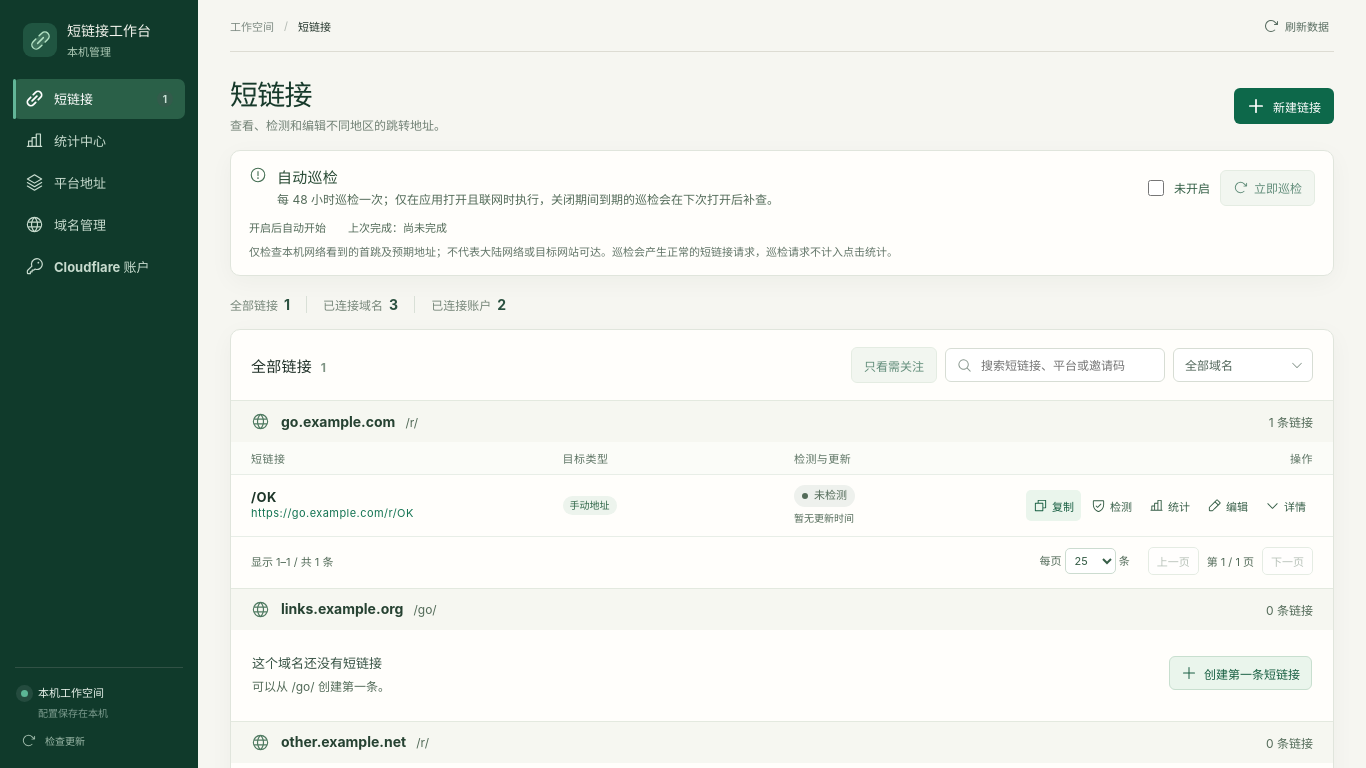
Test case: new names are lowercase in the form, payload and review; targets retain case
Click the button with aria-label "编辑 OK" at (1228, 506), box [1200,490,1255,521]
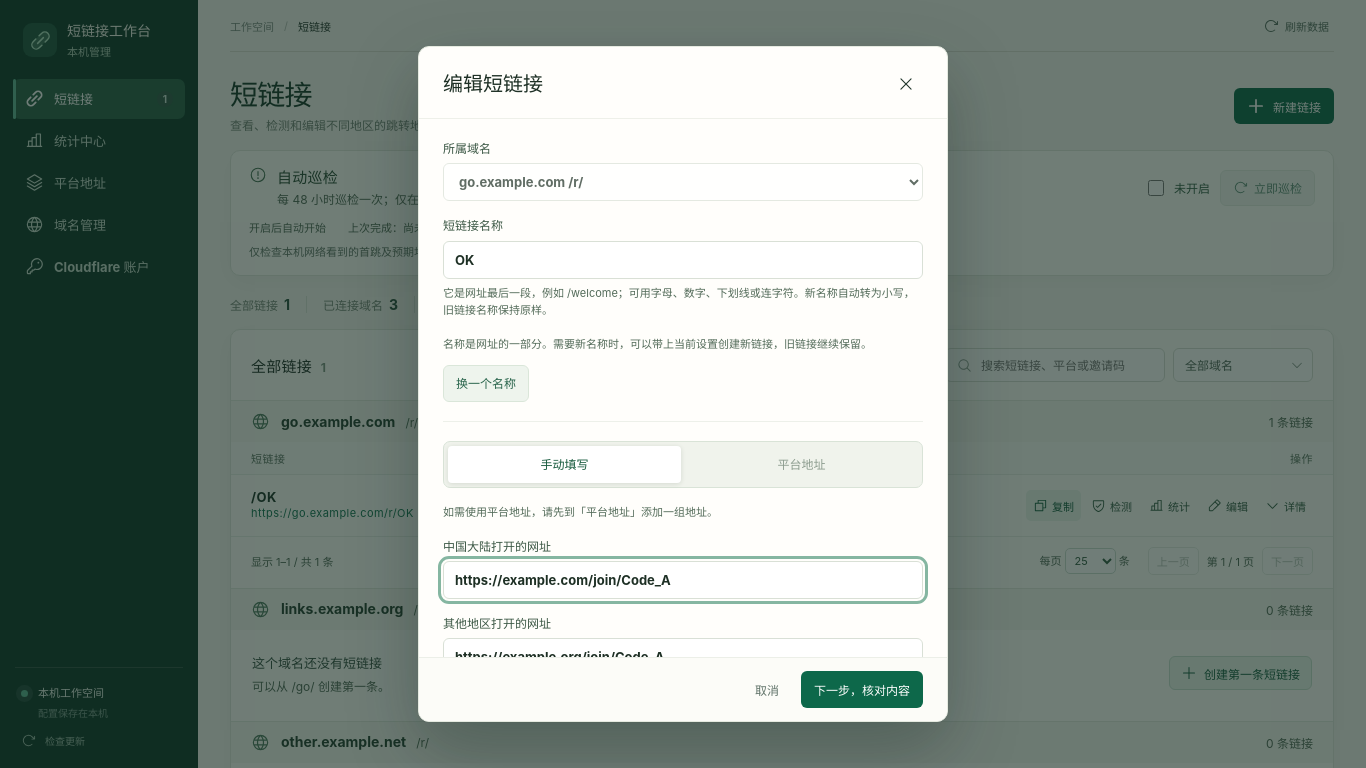
Click the button "换一个名称" at (486, 383), box [443,365,529,402]
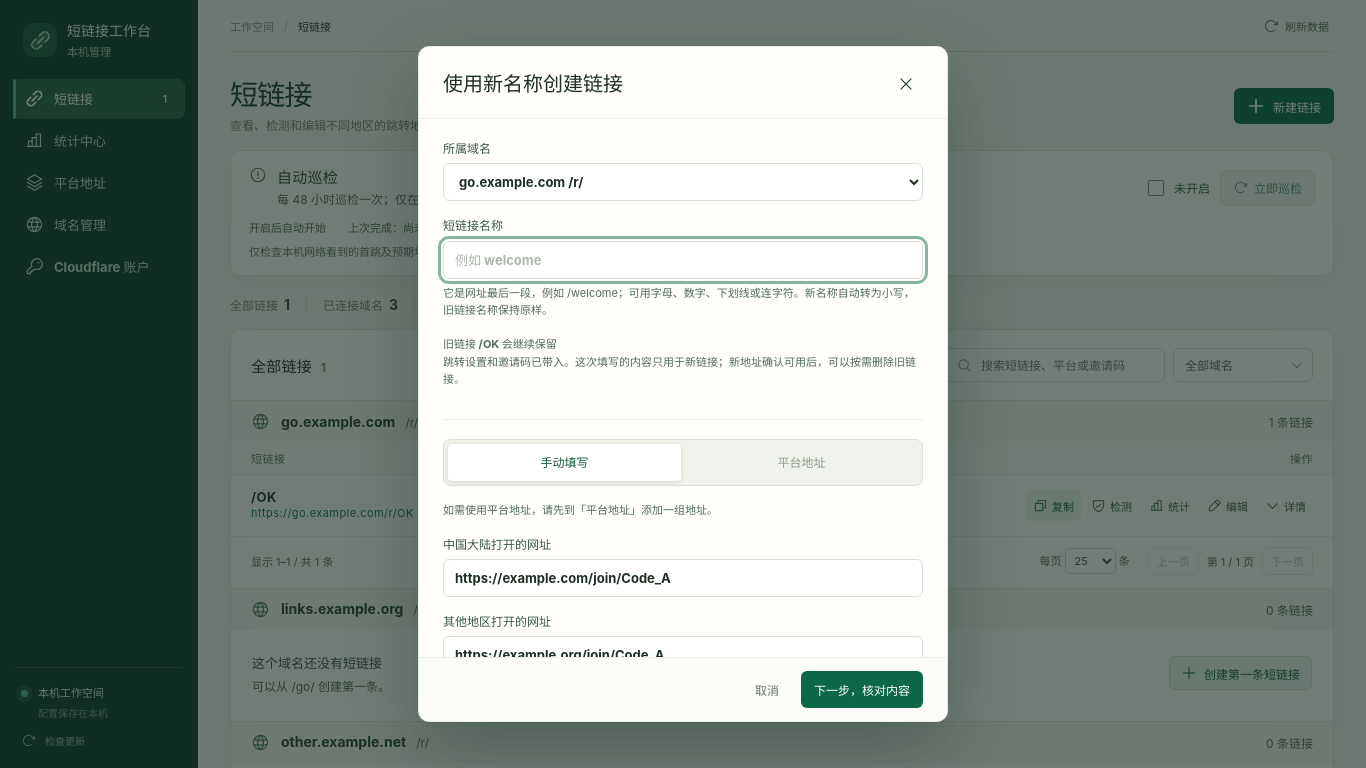
Type "NeW_Name" into the field with placeholder "例如 welcome" at (683, 260), box [443,241,923,279]
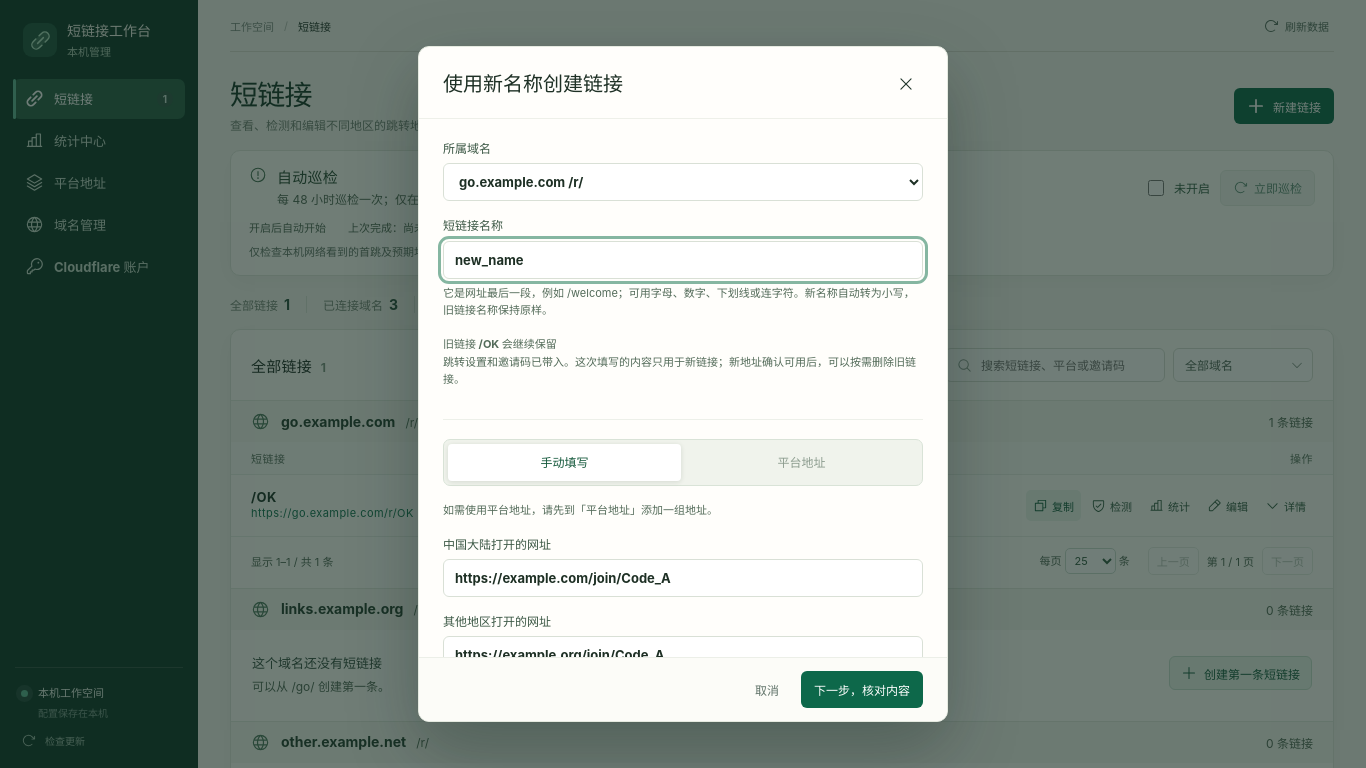
Submit the form, box [443,140,923,708]
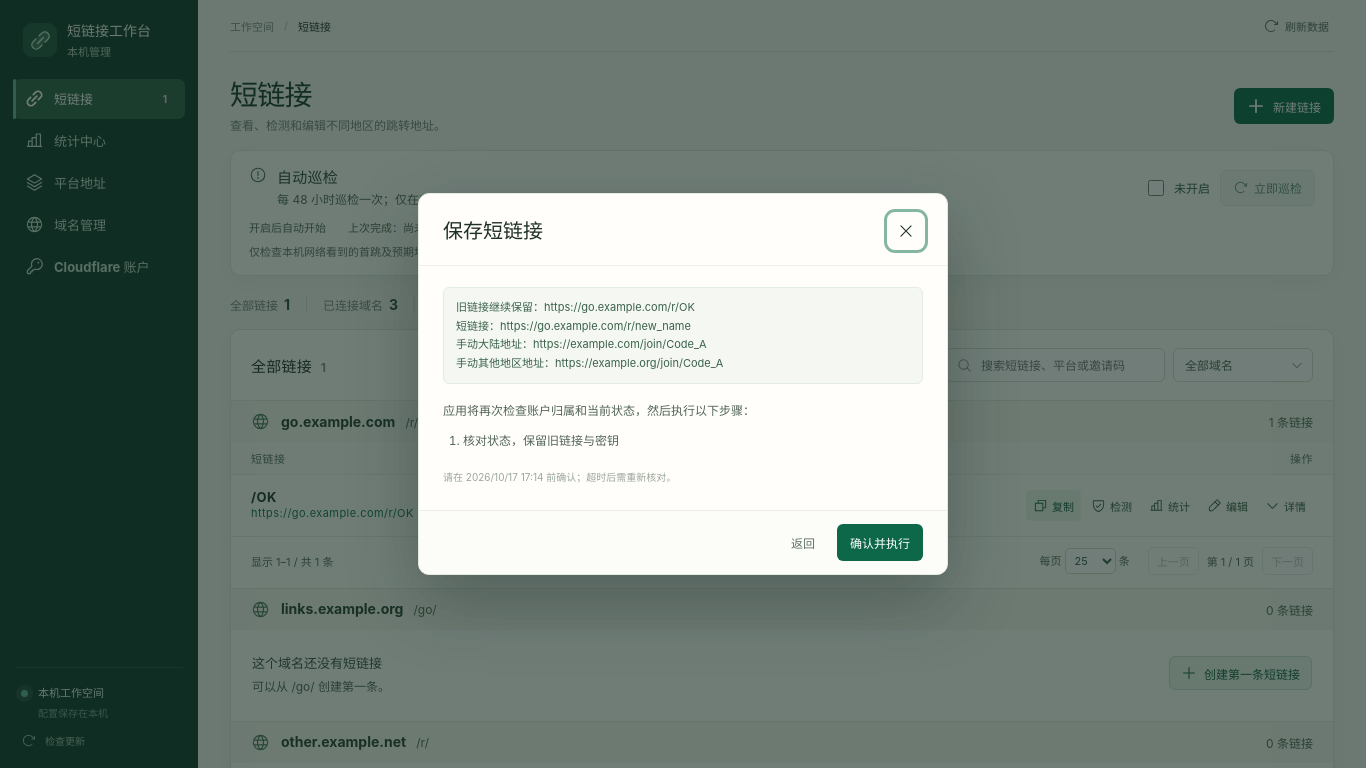
Expected: the dialog "保存短链接" shows "https://go.example.com/r/new_name", [456,319,691,333]
Expected: the dialog "保存短链接" shows "https://example.org/join/Code_A", [456,356,723,370]
